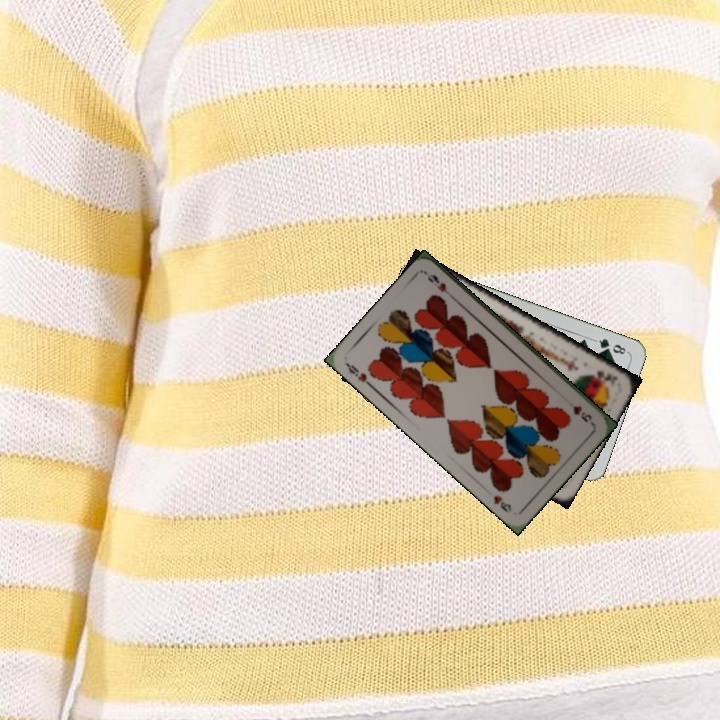G8: (591, 334, 630, 357)
H9: (342, 359, 375, 390), (569, 401, 596, 427)
SK: (586, 366, 621, 388)
